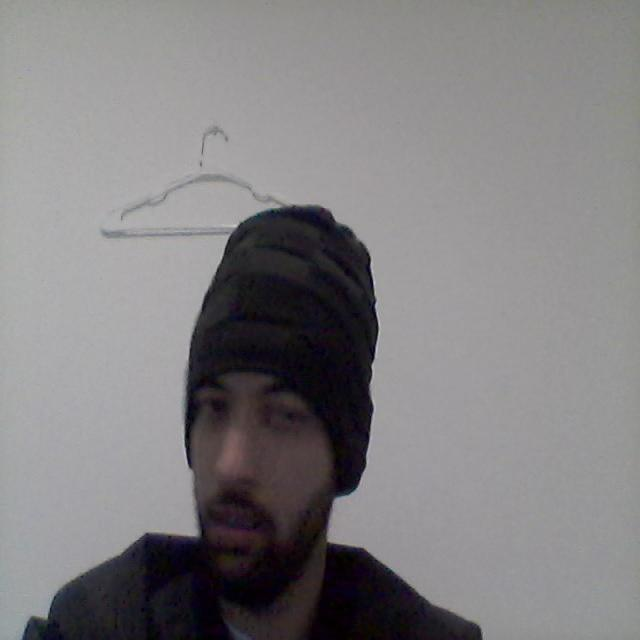cap: (176, 173, 398, 478)
